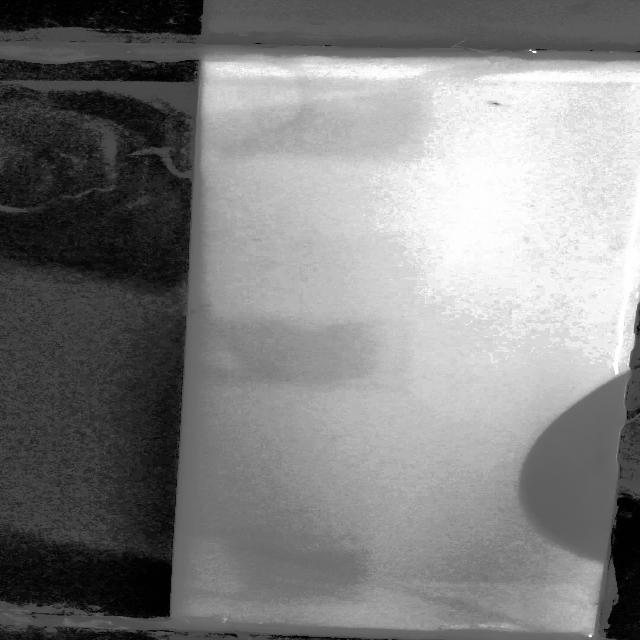shrimp: (183, 305, 206, 320)
